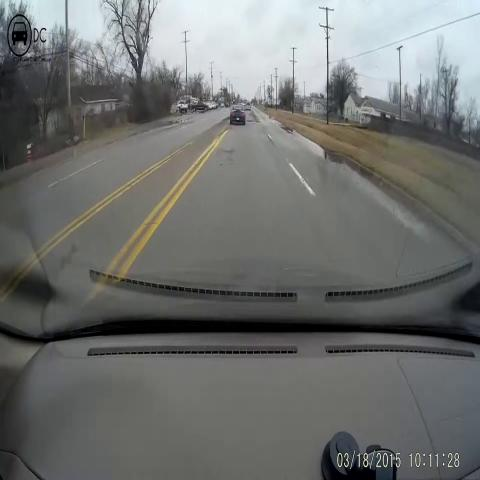pothole: (245, 115, 261, 128)
